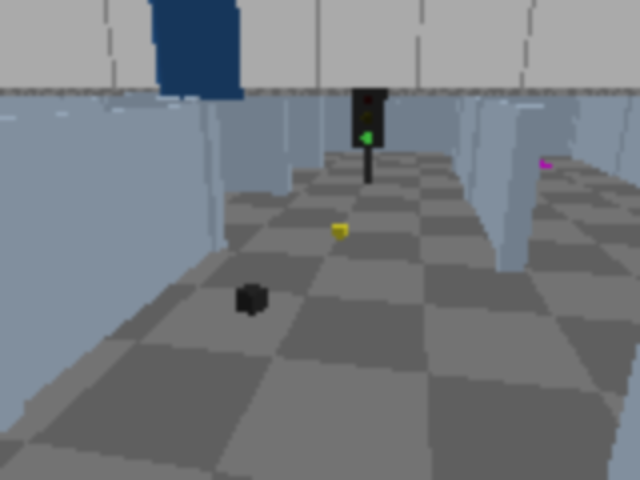puck: (236, 283, 267, 315), (331, 222, 350, 239)
traffic_light: (350, 83, 387, 186)
